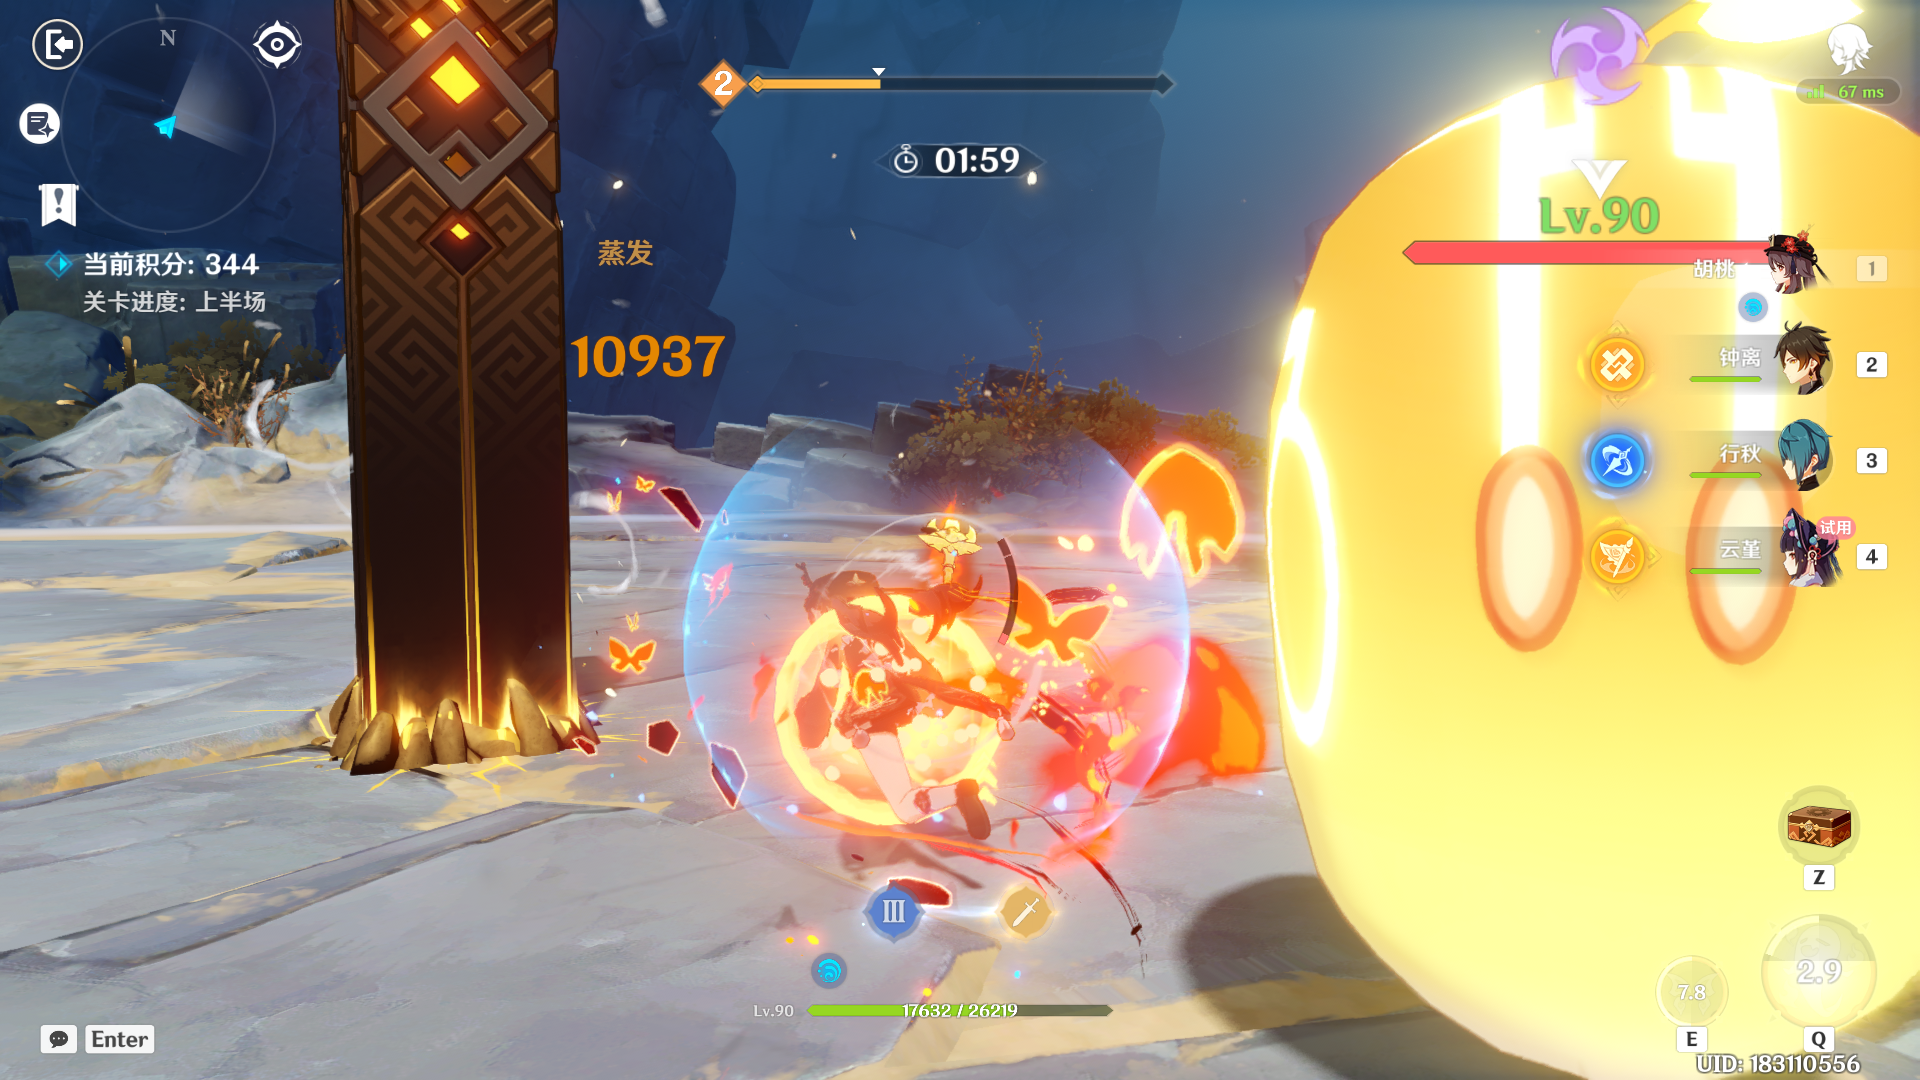character: (729, 469, 1062, 889)
slime: (1197, 44, 1920, 1080)
